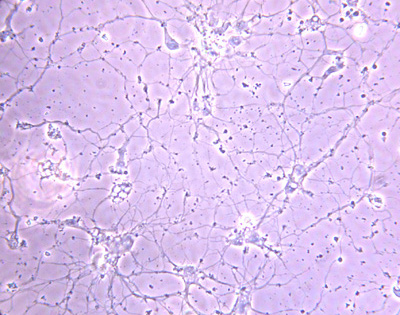neuron: (88, 226, 140, 267)
